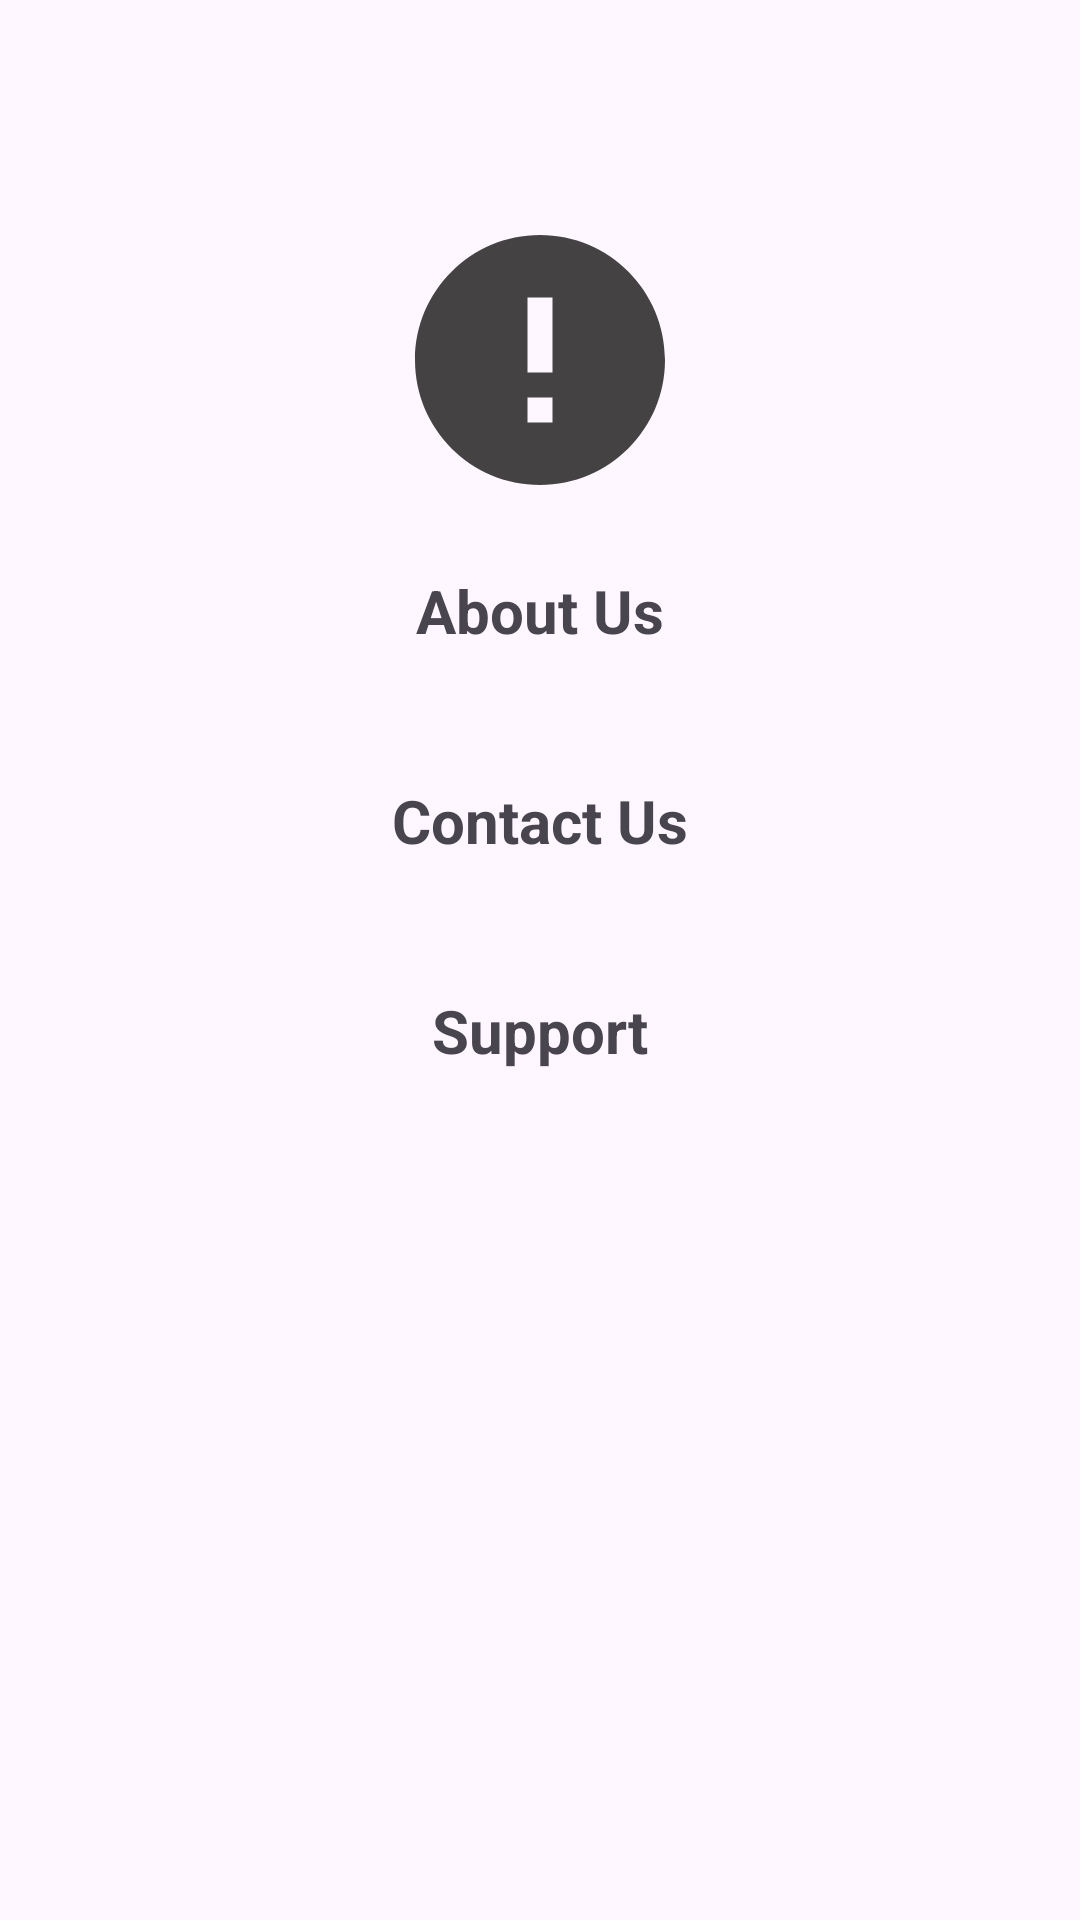

Named icons in this screenshot (1080 x 1920) and their bounding boxes, [x1,y1,x2,y2]:
error: [415,235,665,485]
